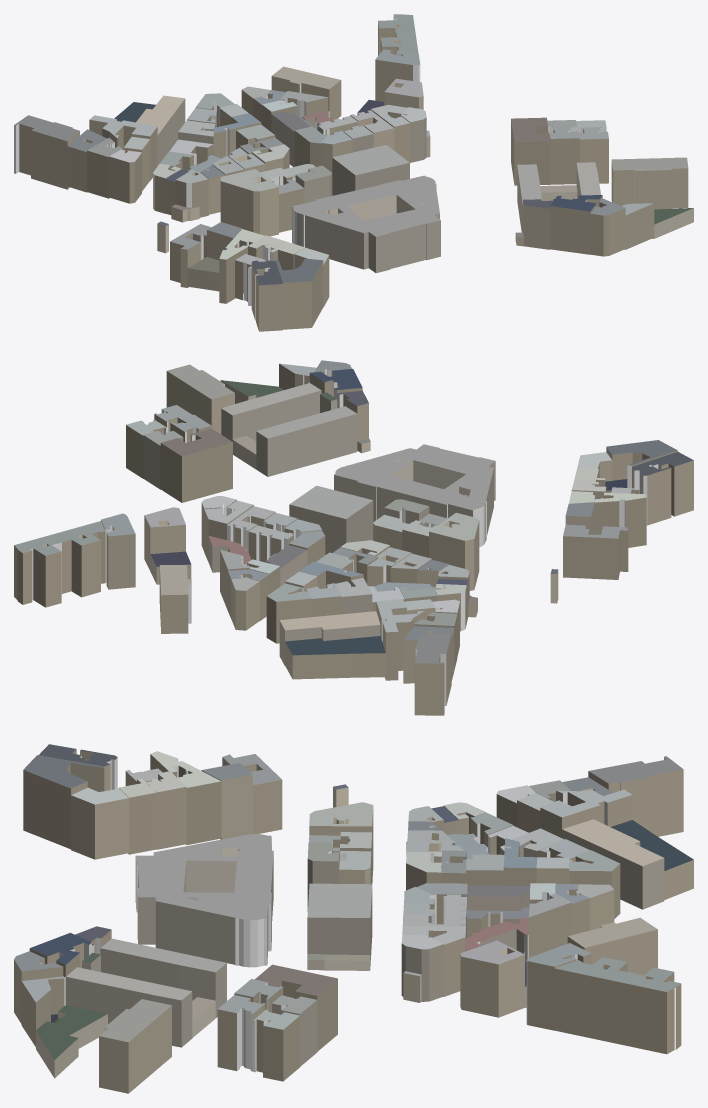
3 views of the same model, one above another, from view 1: azimuth 30°, elevation 25°; view 2: azimuth 150°, elevation 25°; view 3: azimuth 270°, elevation 25° (orthographic). The views are drawn at different scales.
Visible parts, largest first — view 1: tuile; view 2: tuile; view 3: tuile.
Part boxes in pixels (x1,y1,x2,y2): tuile: [14, 14, 693, 331]; tuile: [14, 360, 693, 715]; tuile: [14, 744, 693, 1093].
Size of the model in its own units: 279 by 35.44 by 271.
